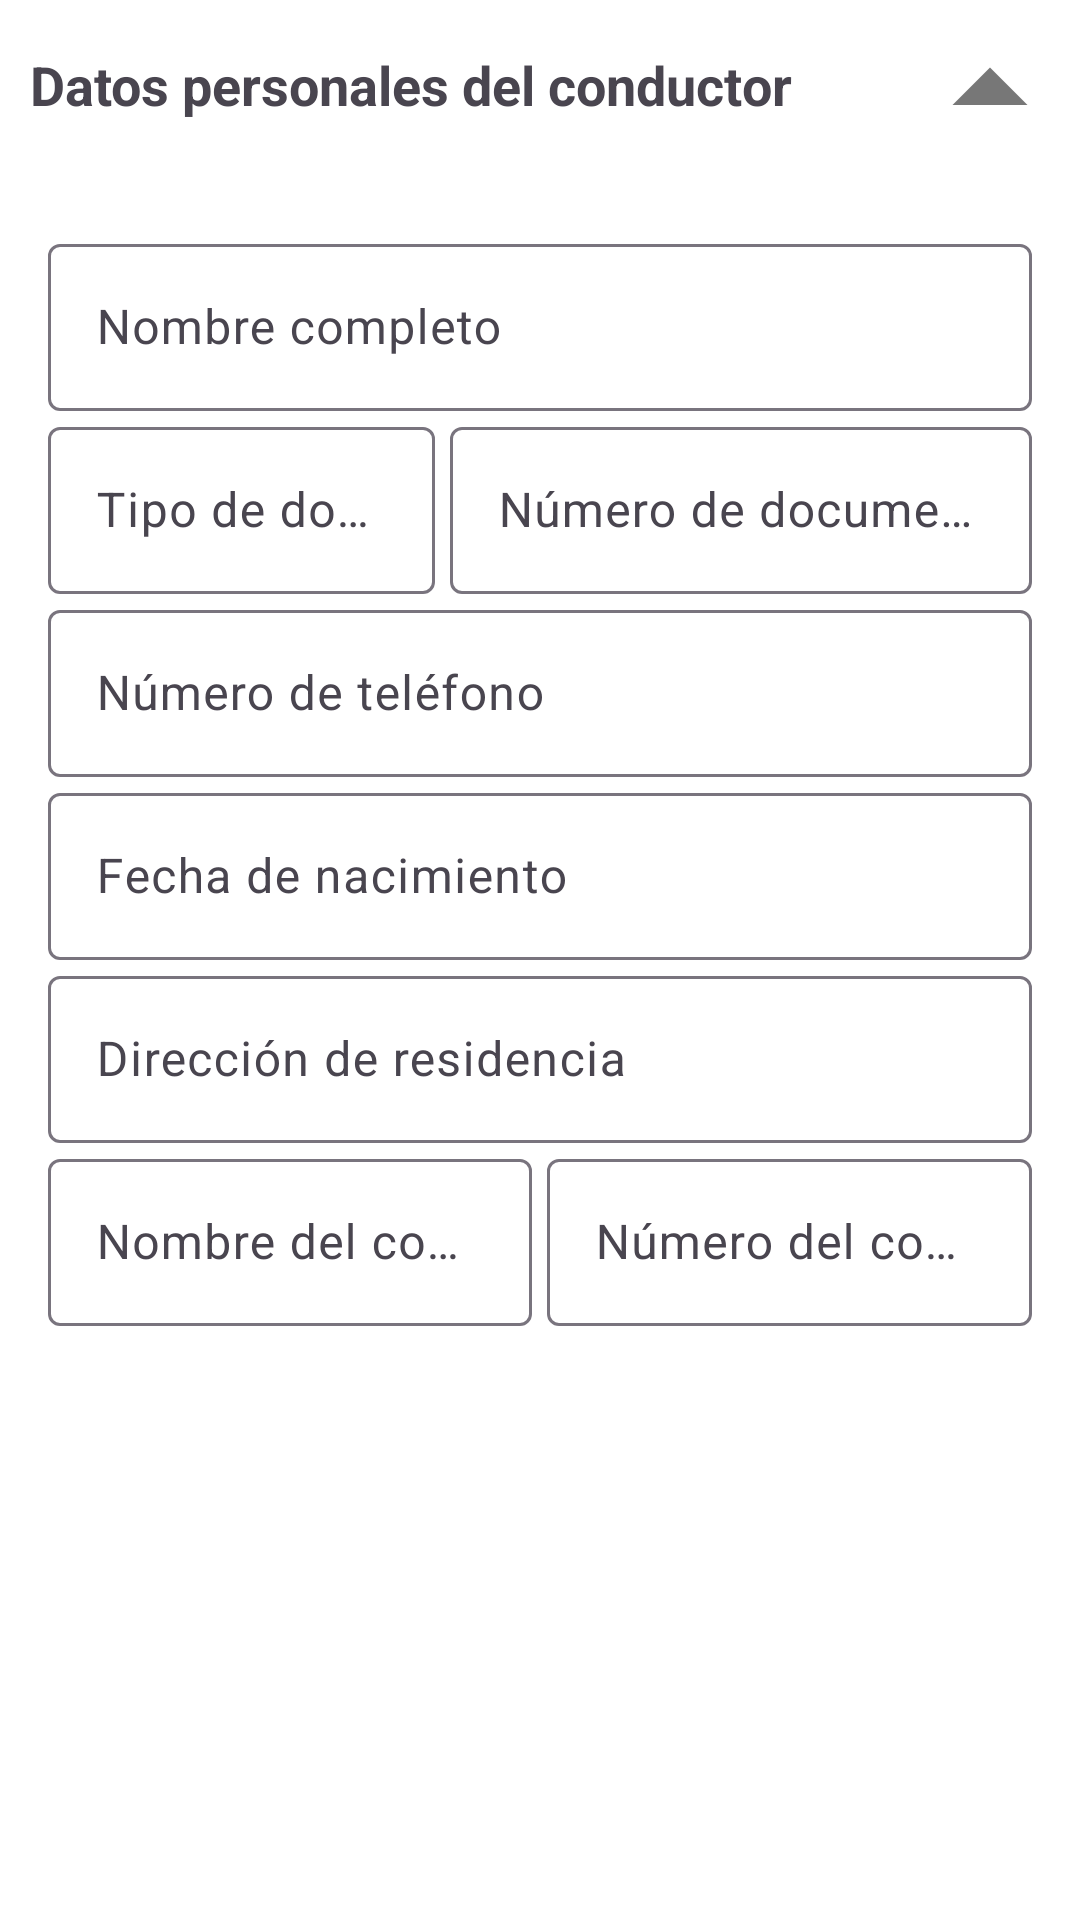

Locate icon controls on the screen. Image size 1080 × 1920, boxes as (x1, y1, x2, y2).
drop up: (953, 68, 1027, 105)
